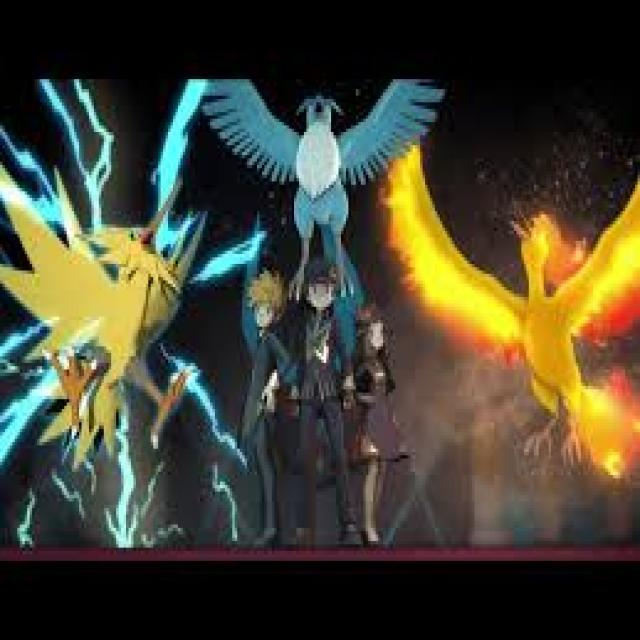Articuno: (243, 79, 389, 257)
Moltres: (442, 198, 640, 431)
Zapdos: (36, 212, 192, 435)
